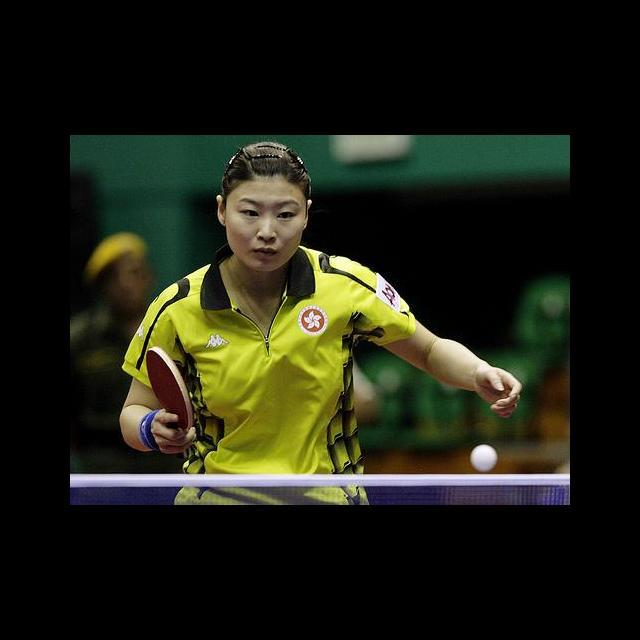ping-pong-ball: (469, 445, 498, 472)
